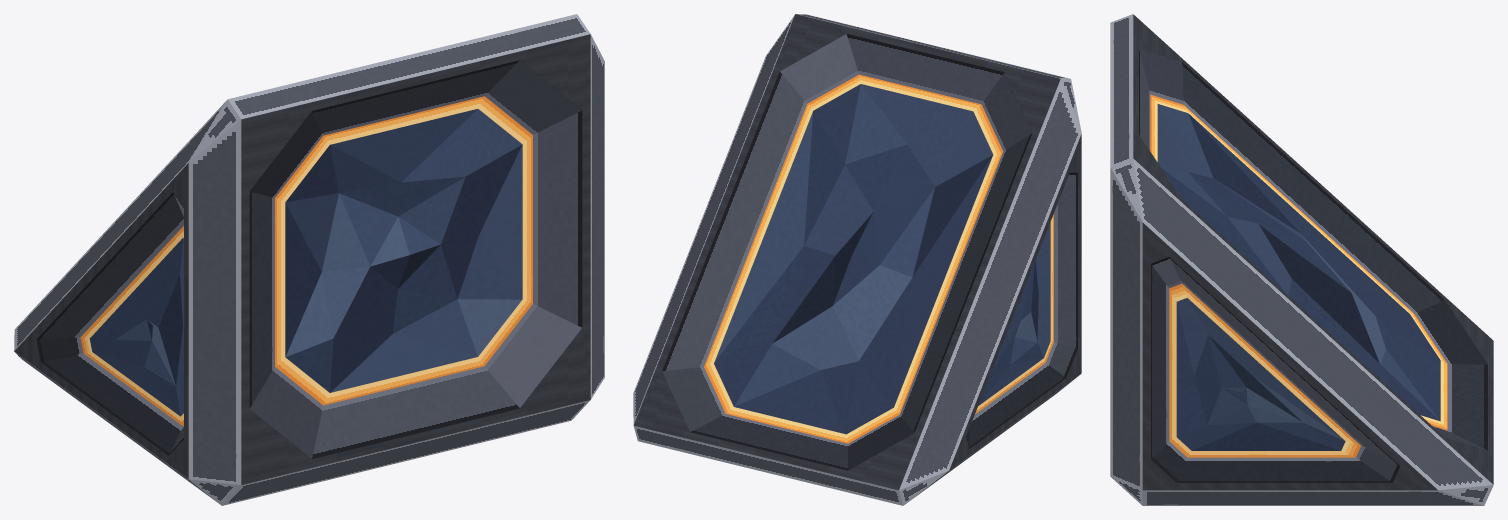
File: marlit_half.glb
3 renders of one model, left to right at view 1: azimuth 30°, elevation 25°; view 2: azimuth 150°, elevation 25°; view 3: azimuth 270°, elevation 25°, orthographic. The views are drawn at different scales.
Visible parts, largest first — view 1: marlit_half_body; view 2: marlit_half_body; view 3: marlit_half_body.
Part boxes in pixels (bbox=[...]): marlit_half_body: bbox=[14, 14, 604, 505]; marlit_half_body: bbox=[633, 14, 1081, 505]; marlit_half_body: bbox=[1110, 14, 1493, 505].
Size of the model in its own units: 2 by 1.89 by 1.89.
1 material, 1 textured.
